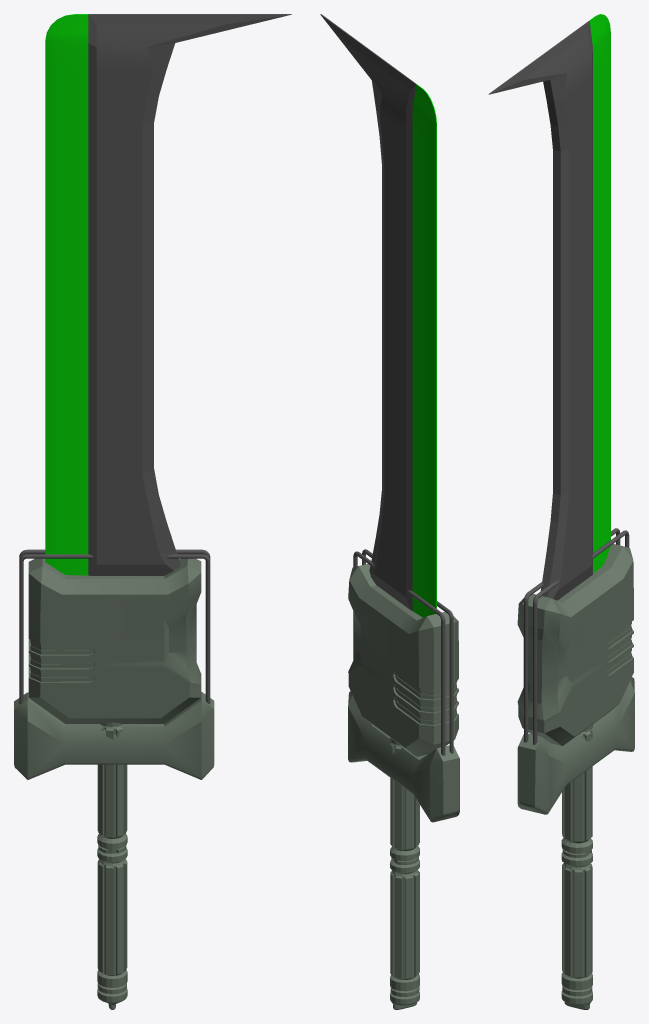
Rendered from BSword5.fbx.
3 views of the same model, side by side, from view 1: azimuth 30°, elevation 25°; view 2: azimuth 150°, elevation 25°; view 3: azimuth 270°, elevation 25° (orthographic). The views are drawn at different scales.
Visible parts, largest first — view 1: polySurface1, pCube12, polySurface2, pCube14, Grip9, pCylinder5; view 2: polySurface1, pCube12, polySurface2, Grip9, pCube14, pCylinder6, pCylinder5; view 3: polySurface1, pCube12, polySurface2, Grip9, pCube14, pCylinder6, pCylinder5.
Part boxes in pixels (box(x1,y1,x2,y2)): polySurface1: box(88, 14, 291, 575); pCube12: box(28, 558, 201, 723); polySurface2: box(45, 14, 88, 575); pCube14: box(14, 692, 214, 779); Grip9: box(97, 722, 127, 1009); pCylinder5: box(19, 554, 210, 704); polySurface1: box(320, 14, 416, 610); pCube12: box(348, 564, 458, 756); polySurface2: box(412, 84, 436, 617); Grip9: box(390, 737, 419, 1009); pCube14: box(348, 691, 459, 822); pCylinder6: box(353, 551, 445, 755); pCylinder5: box(362, 549, 453, 753); polySurface1: box(488, 21, 592, 600); pCube12: box(517, 544, 633, 745); polySurface2: box(589, 14, 610, 573); Grip9: box(561, 724, 592, 1009); pCube14: box(517, 677, 634, 814); pCylinder6: box(533, 530, 629, 744); pCylinder5: box(524, 528, 620, 742).
Size of the model in its own units: 1.89 by 8.41 by 1.14.
